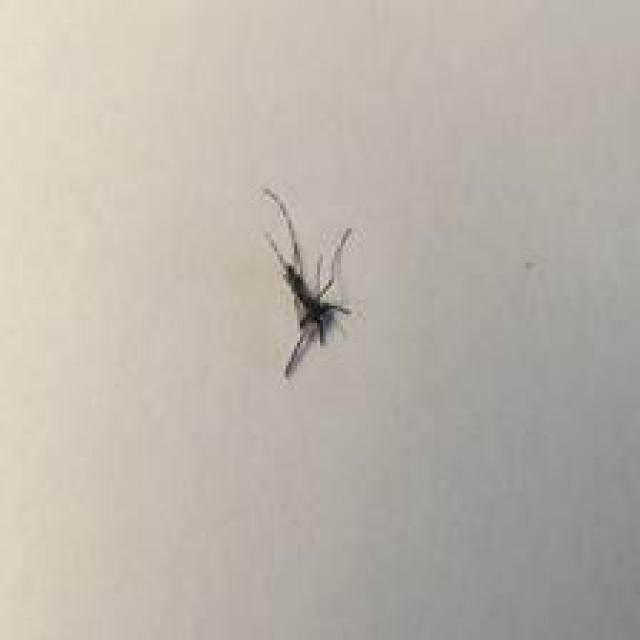Aedes albopictus: (260, 186, 357, 380)
